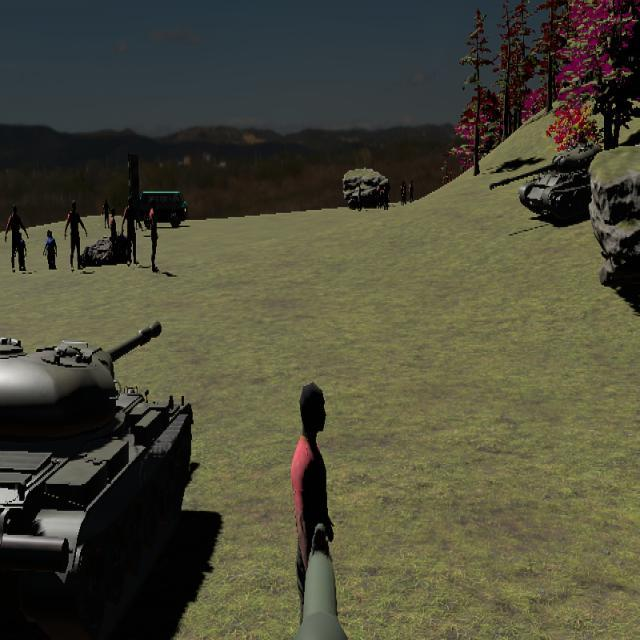Human: (288, 381, 334, 610)
Tank: (0, 322, 194, 640), (489, 141, 634, 224)
car: (129, 190, 188, 228)
